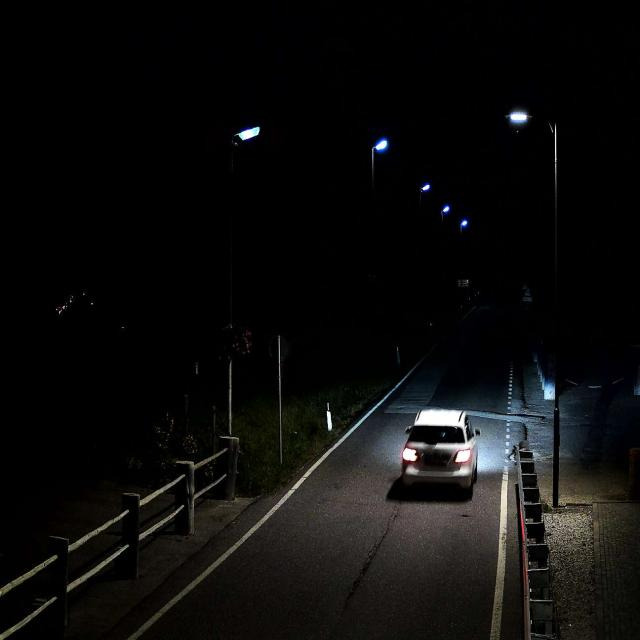car: (400, 406, 481, 491)
